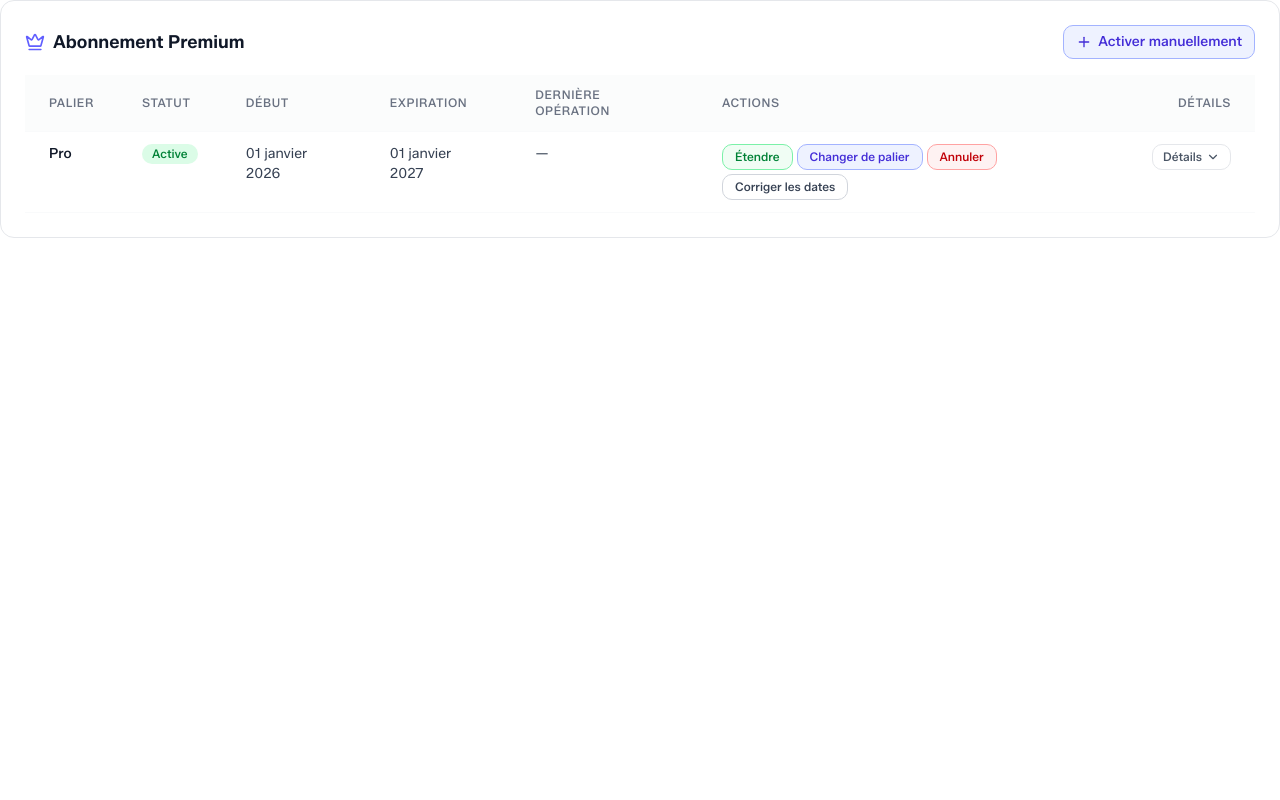
Scenario: AdminFaceSubscriptionSection › correct modal blocks submission when both dates are unchanged
This screenshot has width=1280, height=800.
Click the button with test id "correct-button-sub-active" at (785, 187), box [722, 174, 848, 200]
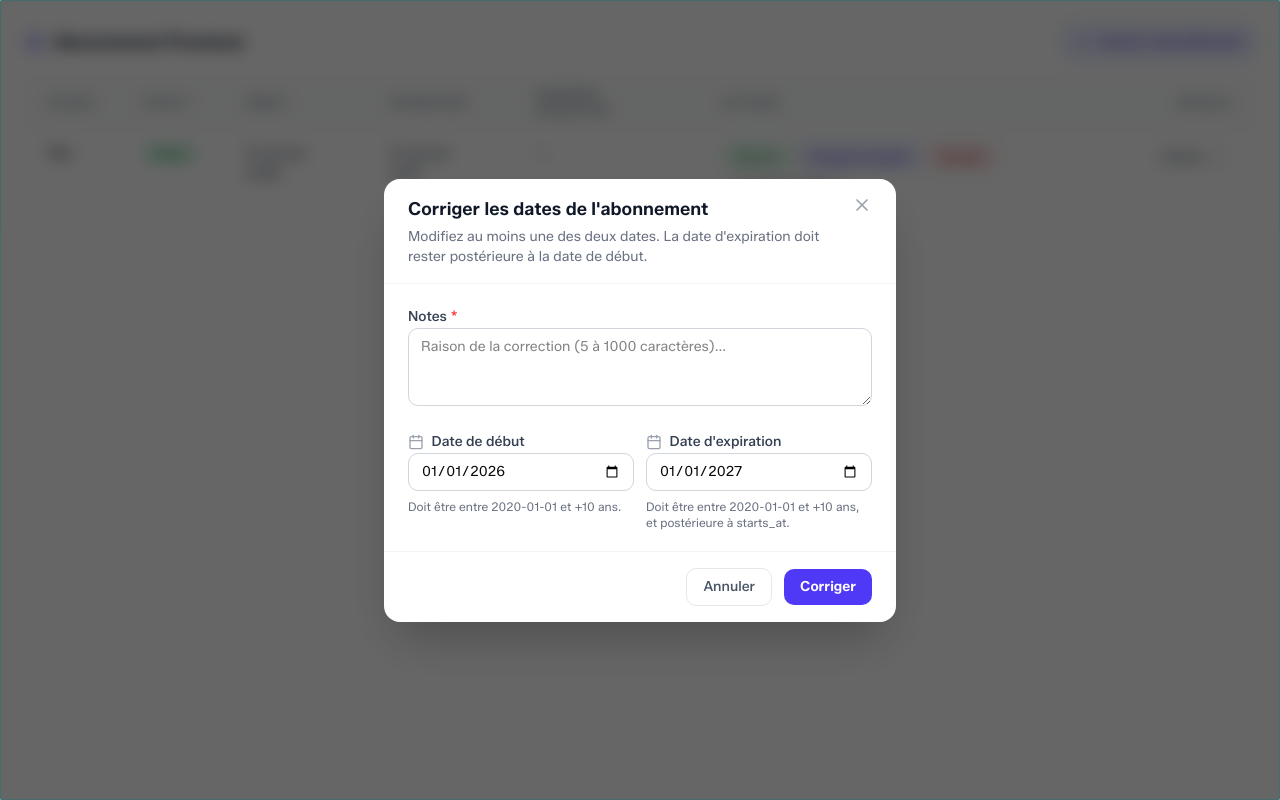
Expected: the text "Doit être entre 2020-01-01 et +10 ans." is shown, [408, 498, 634, 514]
Expected: the text "Doit être entre 2020-01-01 et +10 ans, et postérieure à starts_at." is shown, [646, 498, 872, 530]
Type "Notes valides pour la correction." into the text box with test id "correct-notes" at (640, 366), box [408, 328, 872, 406]
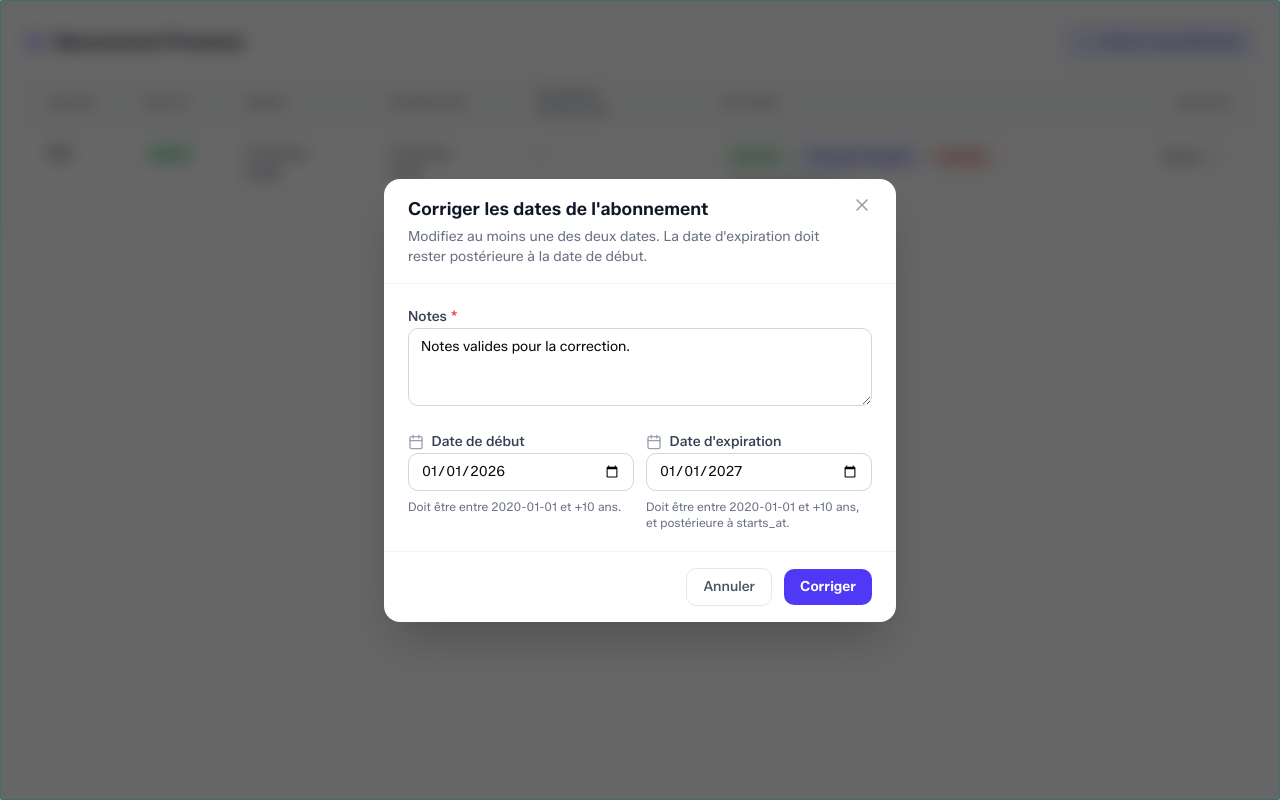
Click the button with test id "correct-submit" at (828, 586), box [784, 568, 872, 604]
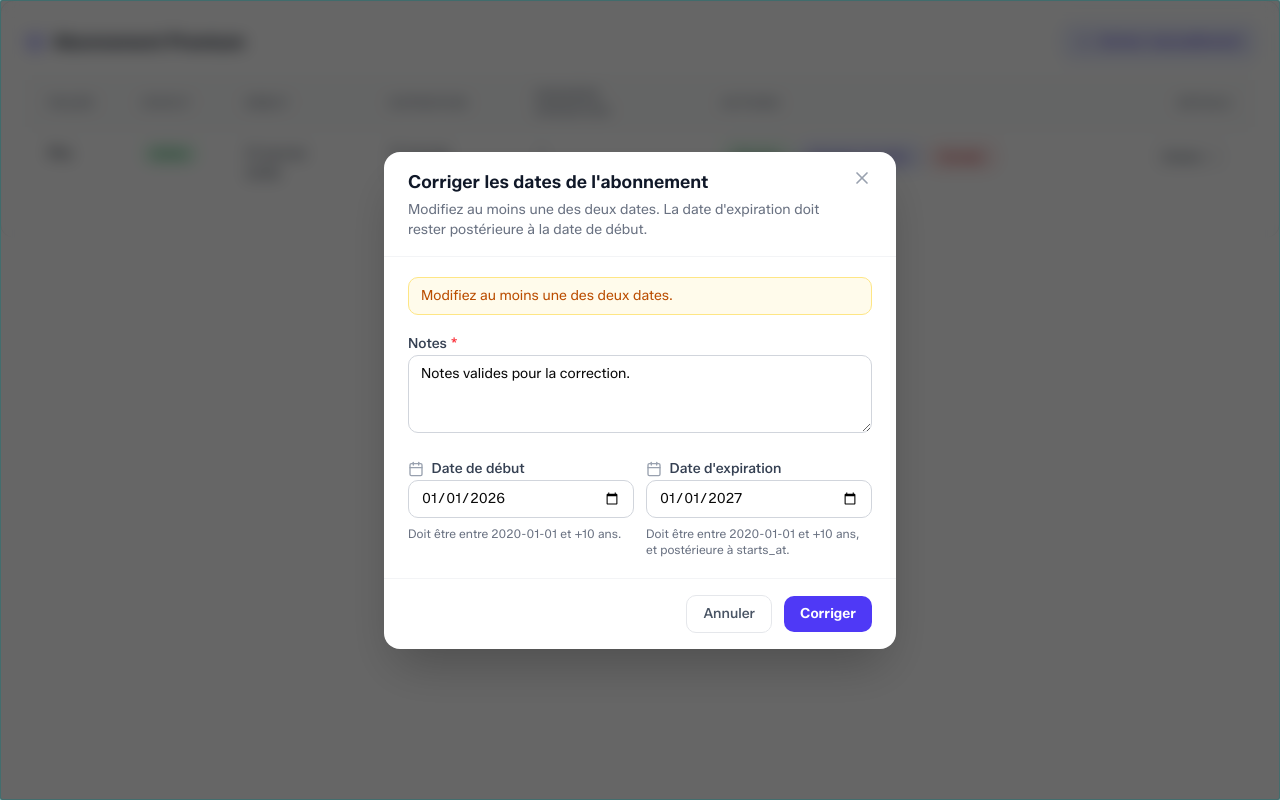
Expected: the text "Modifiez au moins une des deux dates." is shown, [408, 276, 872, 314]
Expected: the text with test id "admin-face-subscription-correct-client-error" shows "Modifiez au moins une des deux dates", [421, 286, 673, 304]
